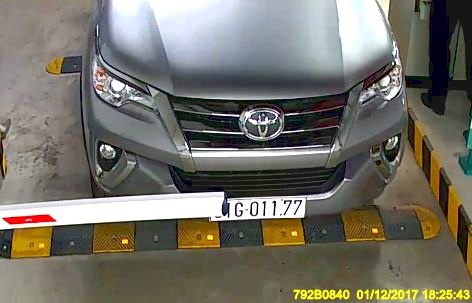plate: (204, 189, 310, 222)
